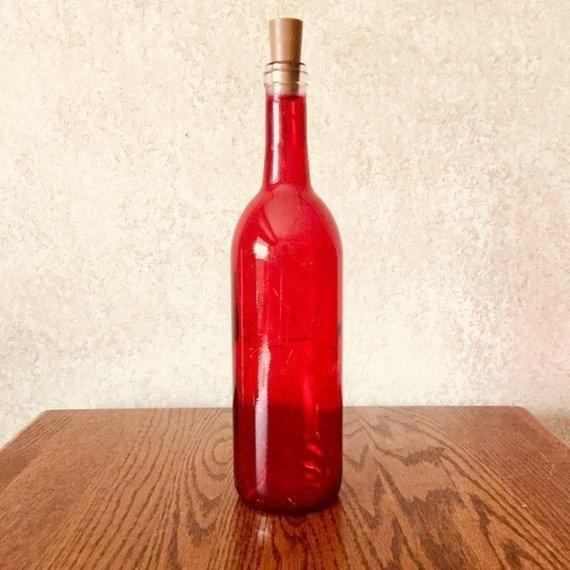bottle-glass: (227, 17, 348, 516)
